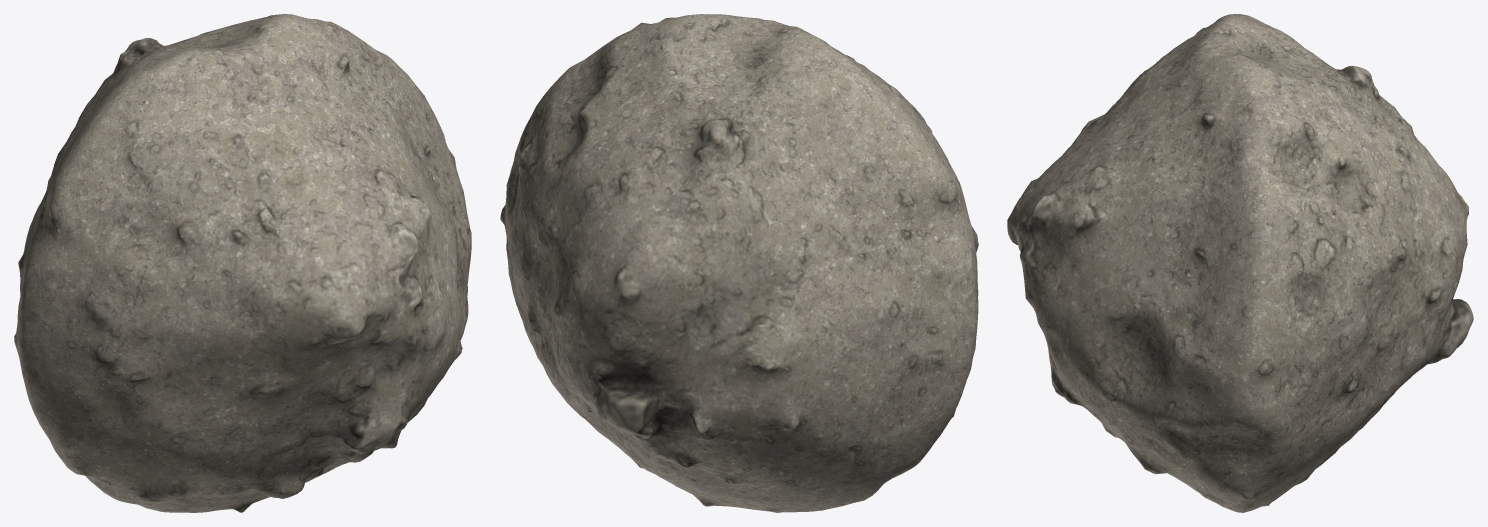
Rendered from ryugu.glb.
The picture shows the model from 3 angles, left to right: view 1: azimuth 30°, elevation 25°; view 2: azimuth 150°, elevation 25°; view 3: azimuth 270°, elevation 25°; orthographic projection. The views are drawn at different scales.
Parts seen in each view (by area): view 1: Ryugu_LP; view 2: Ryugu_LP; view 3: Ryugu_LP.
Part boxes in pixels (x1=…): Ryugu_LP: x1=14, y1=14, x2=471, y2=512; Ryugu_LP: x1=500, y1=14, x2=978, y2=512; Ryugu_LP: x1=1007, y1=14, x2=1473, y2=512.
Bounding box in the file's own units: 1.17 × 1.18 × 1.11.
Materials: 1 (1 with a texture image).
